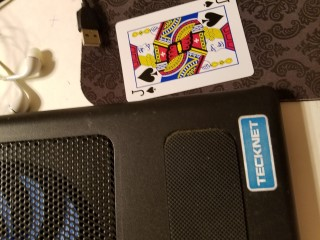JackOfSpades: (115, 1, 255, 103)
